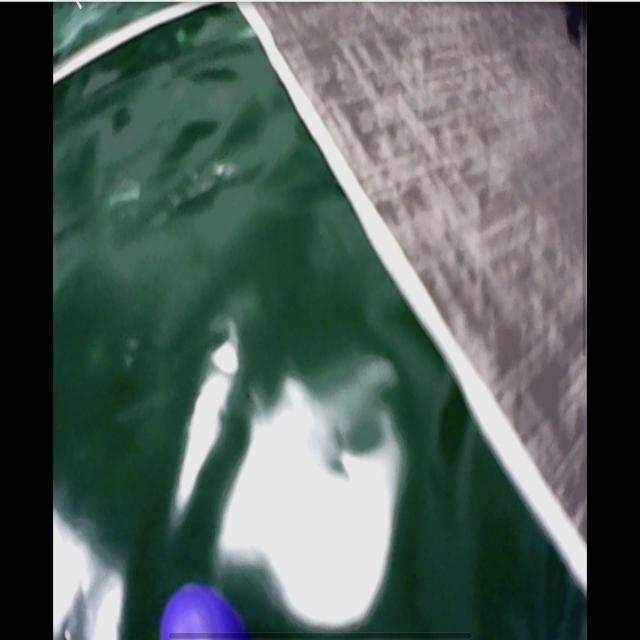ball: (161, 584, 243, 640)
